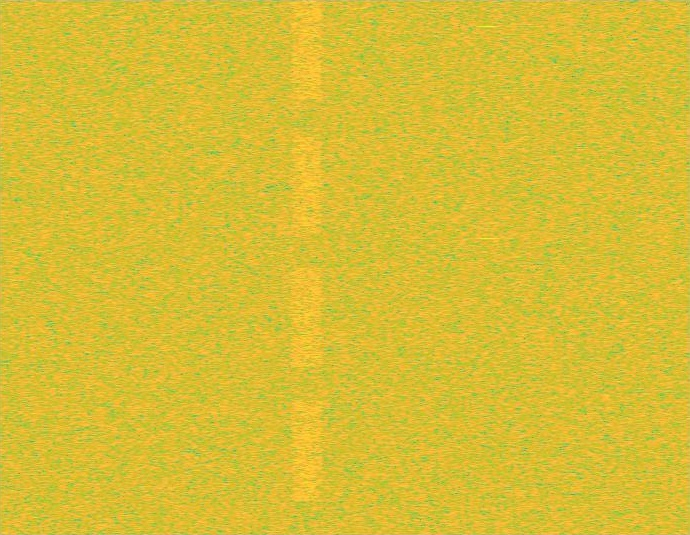5G: (290, 0, 324, 534)
Radar: (481, 0, 495, 534)
